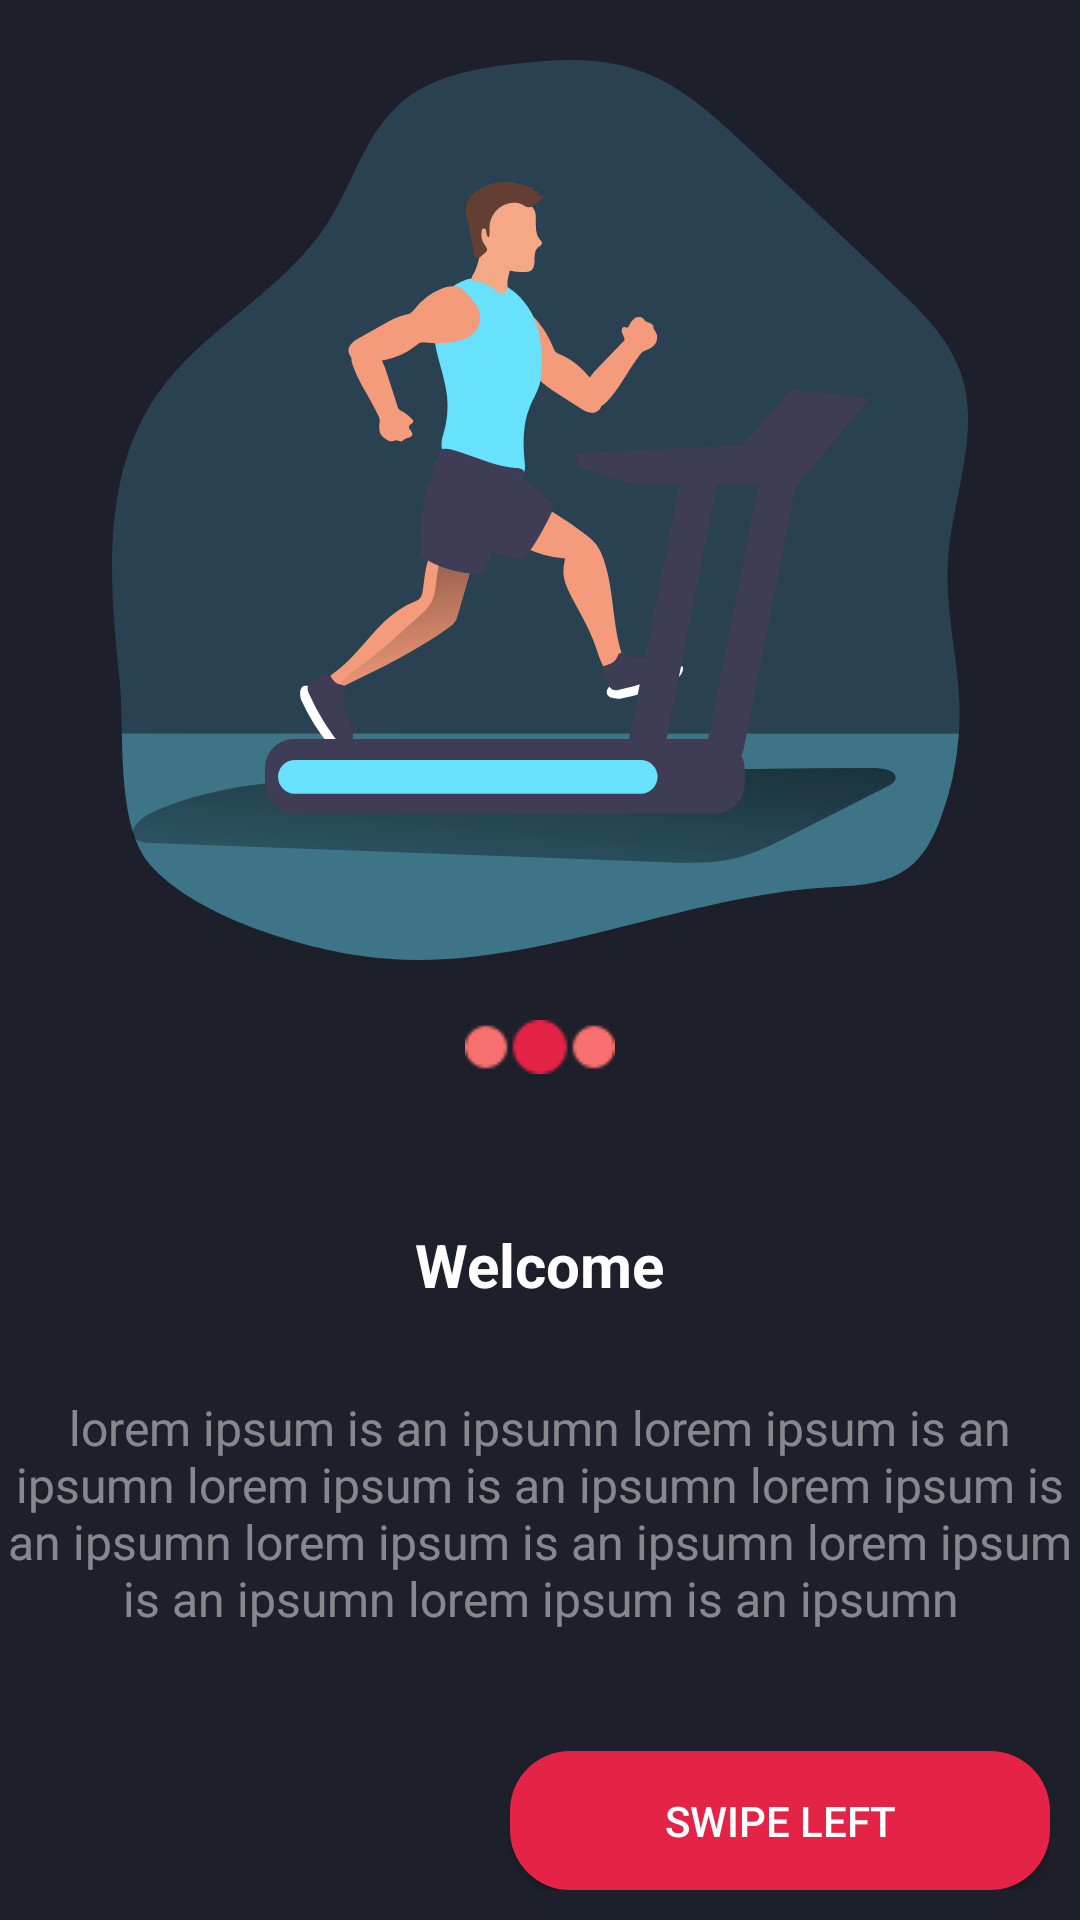

Icons on this 1080w x 1920h Android screen, each with its box as (x1, y1, x2, y2):
dots: (465, 1020, 615, 1074)
